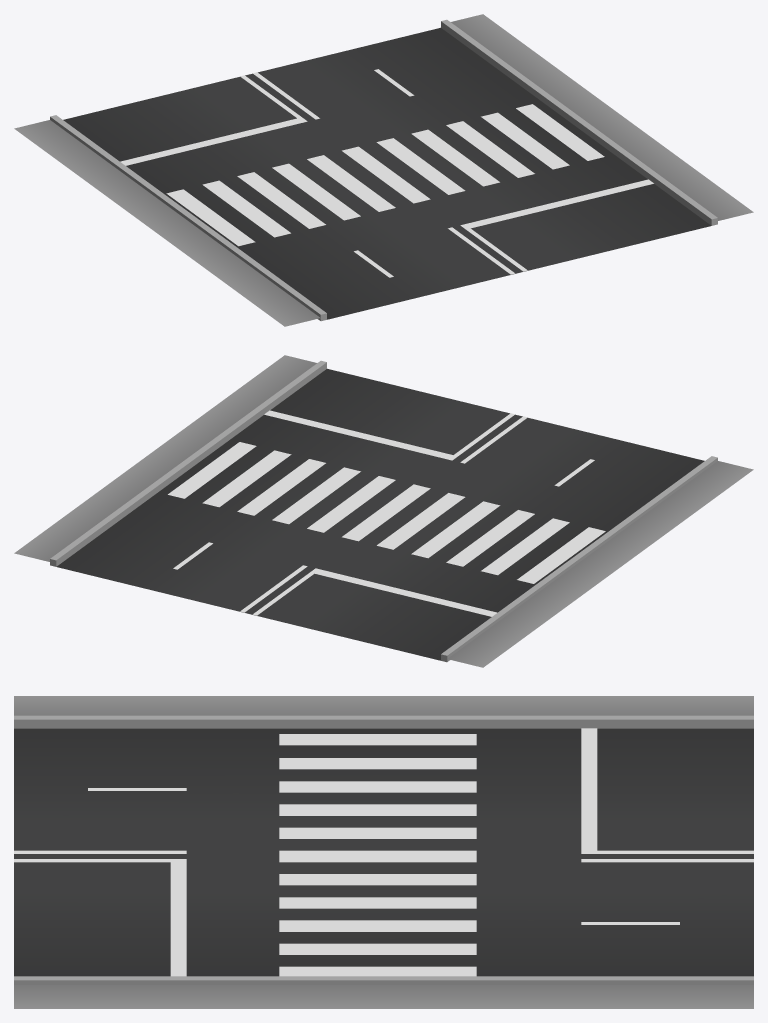
File: road_004.glb
3 views of the same model, one above another, from view 1: azimuth 30°, elevation 25°; view 2: azimuth 150°, elevation 25°; view 3: azimuth 270°, elevation 25° (orthographic). The views are drawn at different scales.
Visible parts, largest first — view 1: road_004; view 2: road_004; view 3: road_004.
Part boxes in pixels (<box>): road_004: <box>14,14,753,326</box>; road_004: <box>14,355,753,667</box>; road_004: <box>14,696,753,1008</box>.
Bounding box in the file's own units: 15 × 0.2 × 15.
1 material, 1 textured.
